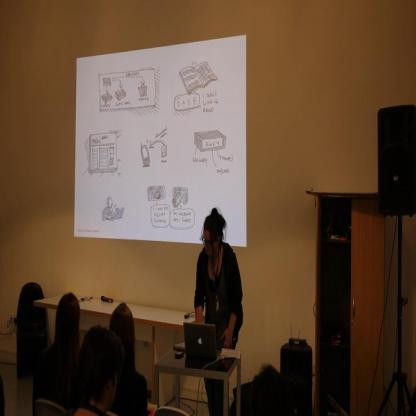board: (182, 321, 223, 360)
